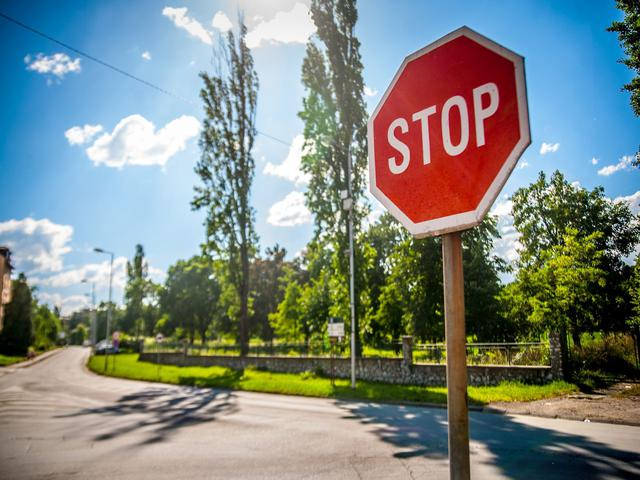stop: (365, 25, 542, 241)
